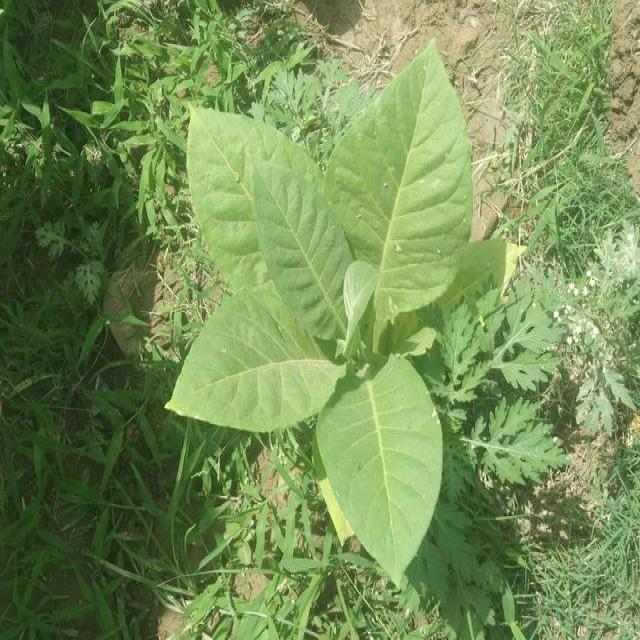crop: (163, 38, 489, 586)
